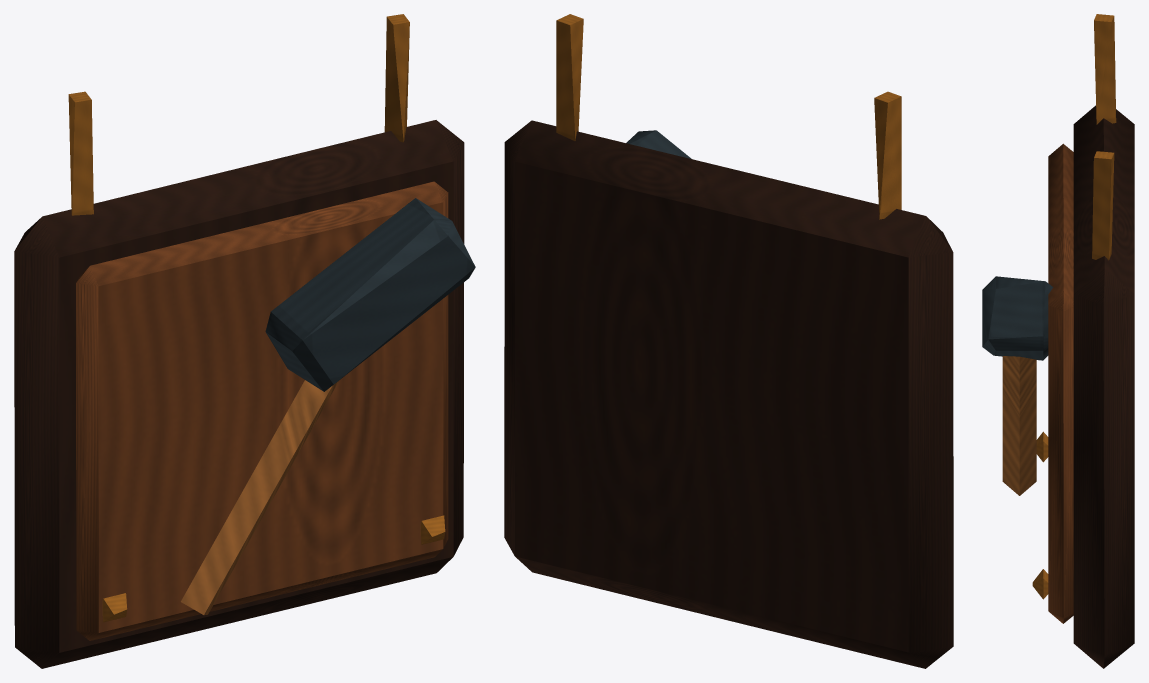
Rendered from Placa_da_oficina_LOD1.fbx.
The picture shows the model from 3 angles, left to right: view 1: azimuth 30°, elevation 25°; view 2: azimuth 150°, elevation 25°; view 3: azimuth 270°, elevation 25°; orthographic projection. The views are drawn at different scales.
Visible parts, largest first — view 1: Placa_da_oficina_LOD1; view 2: Placa_da_oficina_LOD1; view 3: Placa_da_oficina_LOD1.
Boxes of the visible parts, box(x1,y1,x2,y2) form: Placa_da_oficina_LOD1: box(14, 14, 475, 668); Placa_da_oficina_LOD1: box(504, 14, 953, 668); Placa_da_oficina_LOD1: box(982, 14, 1134, 668).
Size of the model in its own units: 136 by 162 by 45.
Materials: 1 (1 with a texture image).
